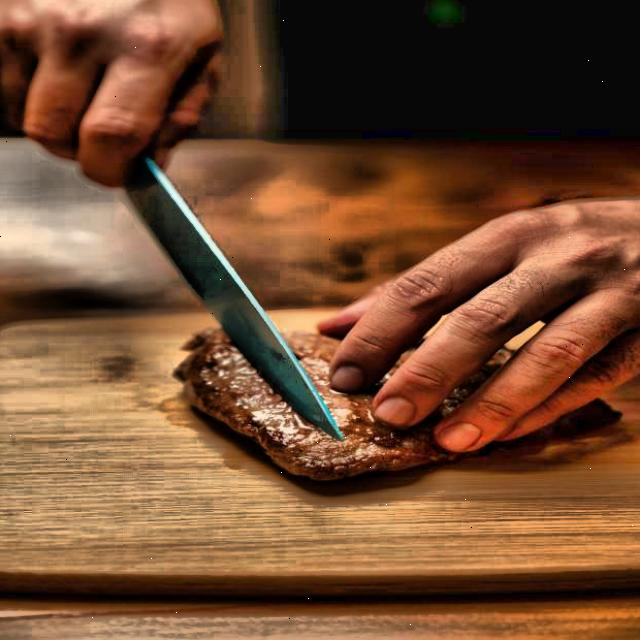knife: (95, 153, 352, 438)
